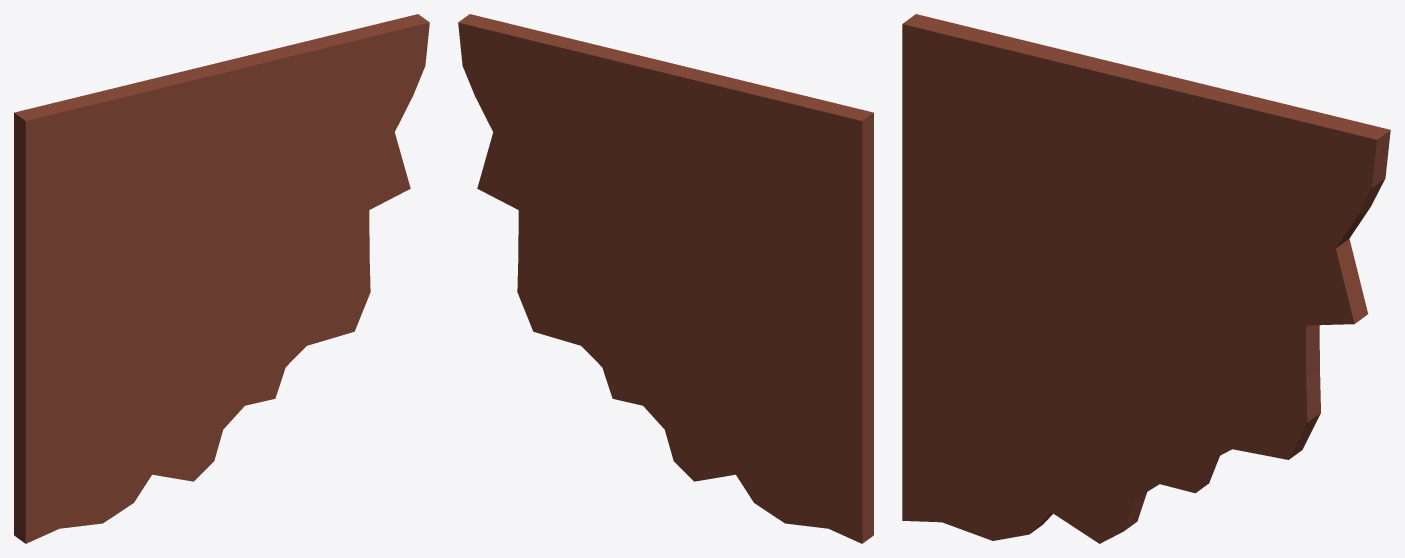
File: tile06.001.glb
3 renders of one model, left to right at view 1: azimuth 30°, elevation 25°; view 2: azimuth 150°, elevation 25°; view 3: azimuth 330°, elevation 25°, orthographic. The views are drawn at different scales.
Parts seen in each view (by area): view 1: 06.001; view 2: 06.001; view 3: 06.001.
Boxes of the visible parts, left/top/right/bottom form: 06.001: left=14, top=14, right=429, bottom=543; 06.001: left=458, top=14, right=873, bottom=543; 06.001: left=902, top=14, right=1390, bottom=543.
Bounding box in the file's own units: 2 × 2 × 0.1.
Materials: 1 (1 with a texture image).
